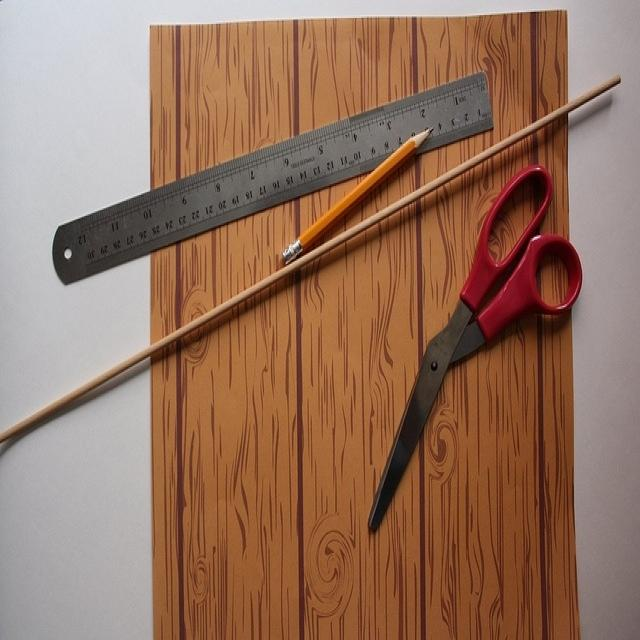scale: (37, 71, 498, 279)
